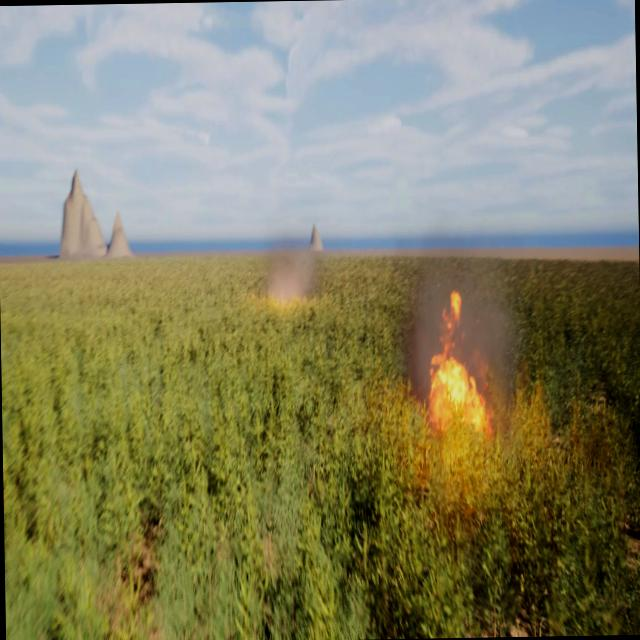fire: (423, 288, 489, 428)
smoke: (404, 264, 514, 418), (264, 231, 318, 310)
